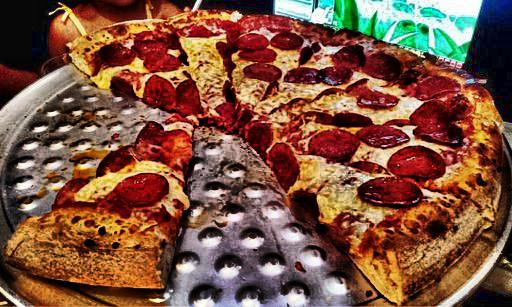pizza: (2, 37, 495, 277)
